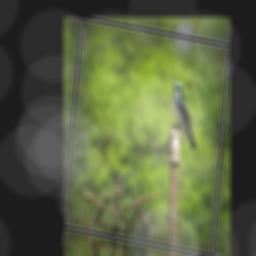Swallow: (167, 80, 203, 154)
